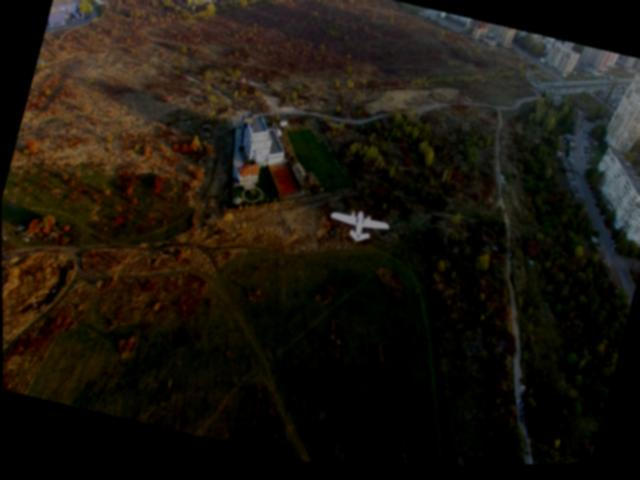plane: (326, 205, 393, 250)
